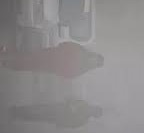person: (2, 41, 103, 79), (9, 98, 102, 126)
